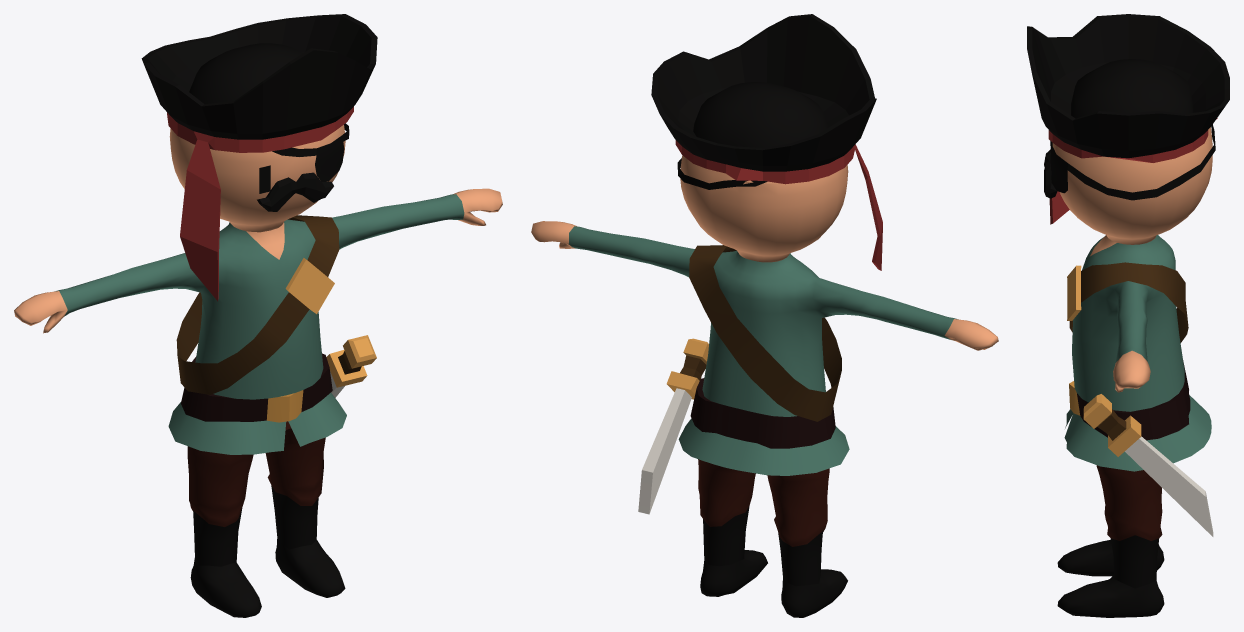
Rendered from SailorC_Tpose.fbx.
The picture shows the model from 3 angles, left to right: view 1: azimuth 30°, elevation 25°; view 2: azimuth 150°, elevation 25°; view 3: azimuth 270°, elevation 25°; orthographic projection. The views are drawn at different scales.
Parts seen in each view (by area): view 1: Sailor_C1; view 2: Sailor_C1; view 3: Sailor_C1.
Boxes of the visible parts, x1,y1,x2,y2 form: Sailor_C1: (14,14,502,617); Sailor_C1: (531,14,998,617); Sailor_C1: (1027,14,1229,617).
Size of the model in its own units: 130 by 147 by 47.76.
